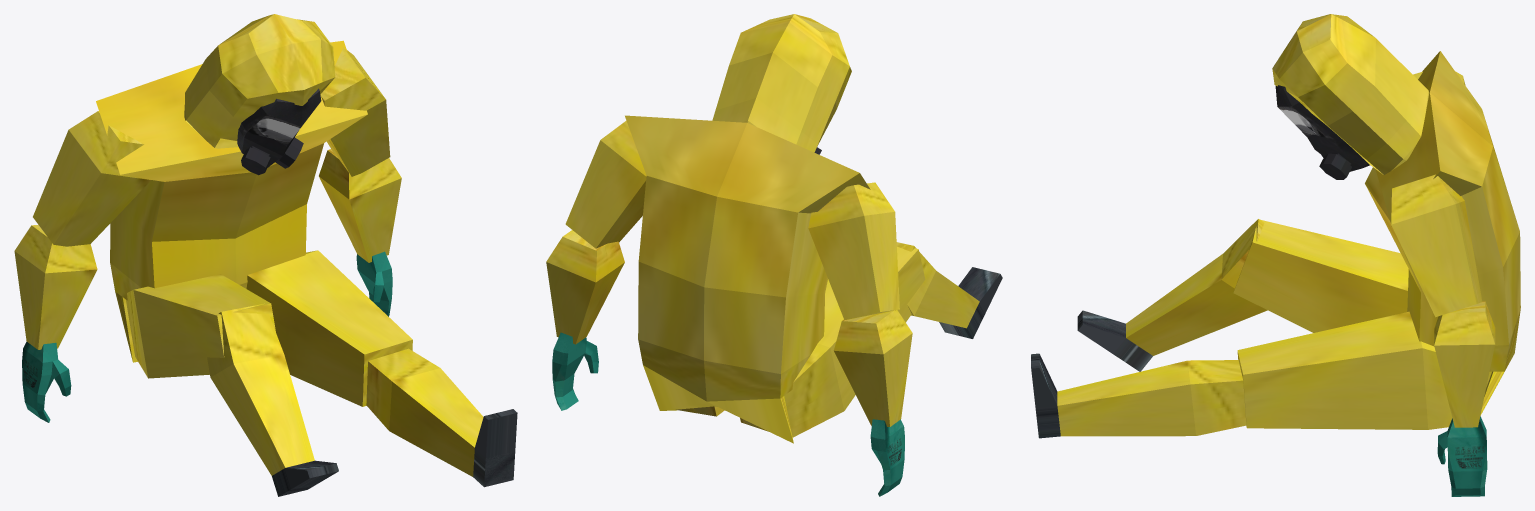
File: DeadTherophist1.fbx
3 renders of one model, left to right at view 1: azimuth 30°, elevation 25°; view 2: azimuth 150°, elevation 25°; view 3: azimuth 270°, elevation 25°, orthographic. The views are drawn at different scales.
Visible parts, largest first — view 1: body; view 2: body; view 3: body.
Boxes of the visible parts, x1,y1,x2,y2 form: body: [14, 14, 517, 496]; body: [546, 14, 1002, 496]; body: [1031, 14, 1520, 496].
Size of the model in its own units: 173 by 191 by 207.
